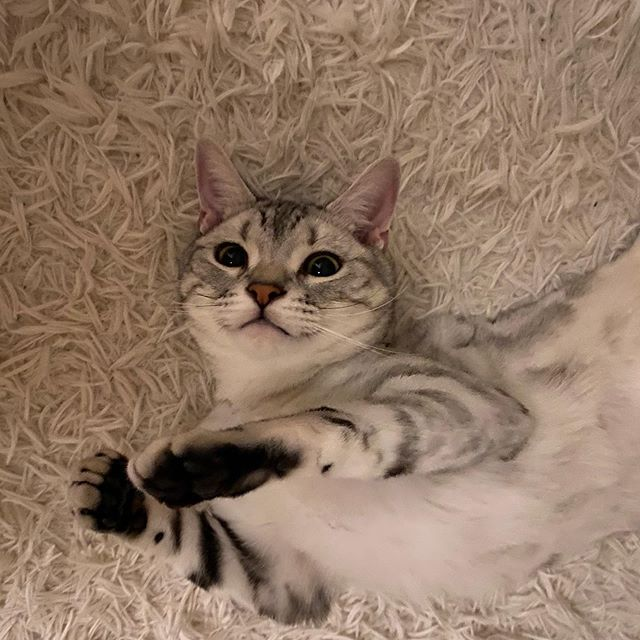cat: (174, 138, 405, 388)
